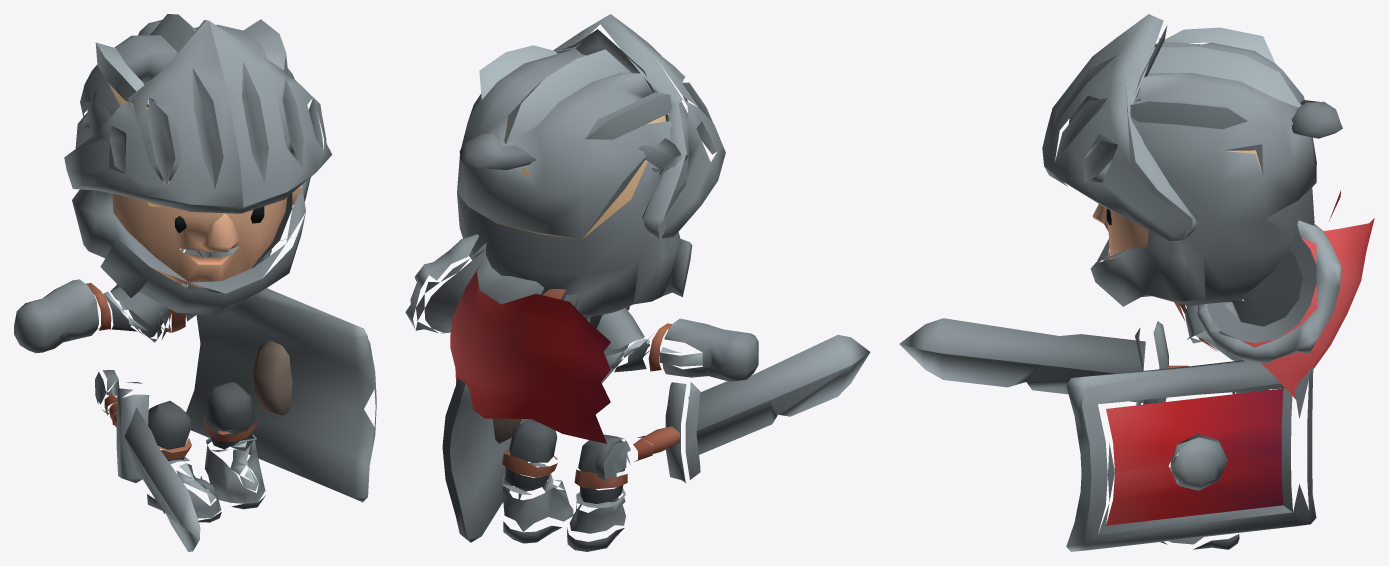
File: enemy_shielder.glb
The picture shows the model from 3 angles, left to right: view 1: azimuth 30°, elevation 25°; view 2: azimuth 150°, elevation 25°; view 3: azimuth 270°, elevation 25°; orthographic projection.
Parts seen in each view (by area): view 1: shielder; view 2: shielder; view 3: shielder.
Boxes of the visible parts, x1,y1,x2,y2 form: shielder: [14, 14, 376, 551]; shielder: [405, 14, 870, 551]; shielder: [899, 14, 1374, 551].
Size of the model in its own units: 0.6428 by 1.01 by 0.8674.
1 material, 1 textured.
